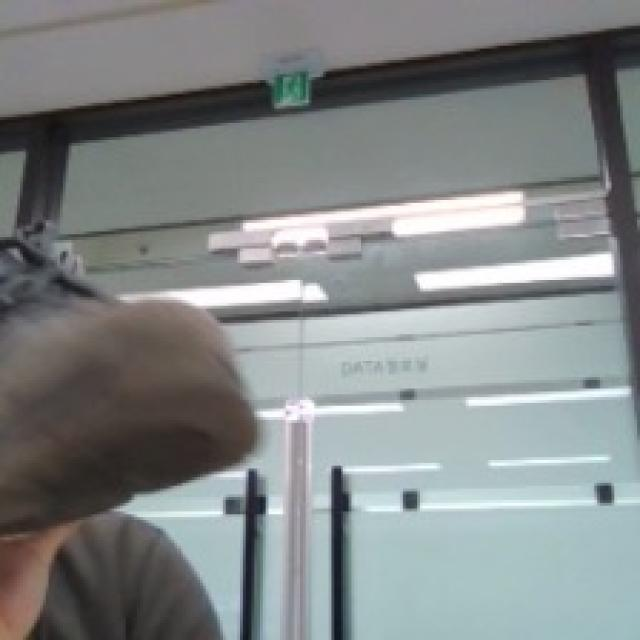shoe: (5, 216, 263, 597)
